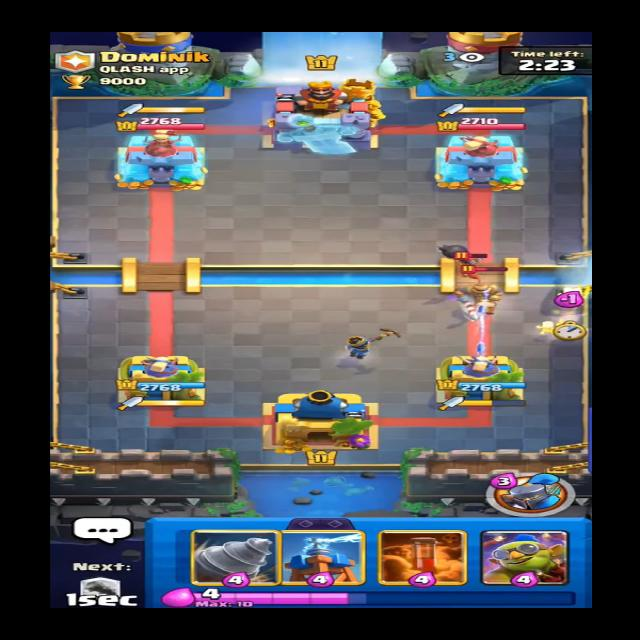bomber: (442, 236, 491, 274)
prince: (452, 263, 506, 321)
